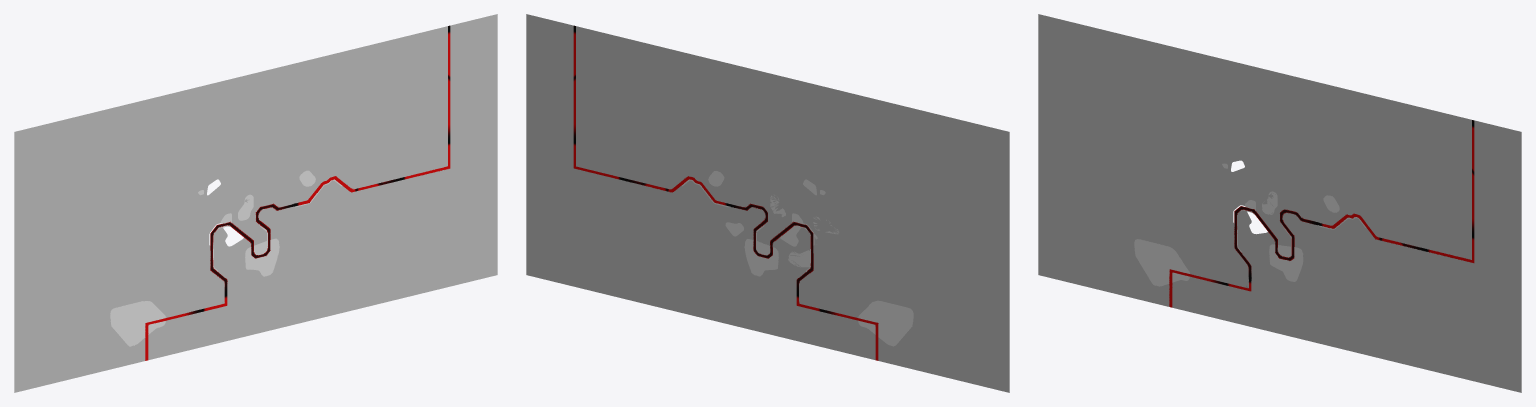
Rendered from Moscow.glb.
3 views of the same model, side by side, from view 1: azimuth 30°, elevation 25°; view 2: azimuth 150°, elevation 25°; view 3: azimuth 330°, elevation 25° (orthographic).
Parts seen in each view (by area): view 1: Moscow_Land, Moscow_Grass, Moscow_Water; view 2: Moscow_Land, Moscow_Grass, Moscow_Water; view 3: Moscow_Land, Moscow_Grass, Moscow_Water.
Boxes of the visible parts, bbox=[...] form: Moscow_Land: bbox=[14, 14, 497, 392]; Moscow_Grass: bbox=[110, 170, 315, 346]; Moscow_Water: bbox=[145, 25, 450, 360]; Moscow_Land: bbox=[526, 14, 1009, 392]; Moscow_Grass: bbox=[708, 171, 913, 346]; Moscow_Water: bbox=[573, 25, 878, 360]; Moscow_Land: bbox=[1038, 14, 1521, 392]; Moscow_Grass: bbox=[1134, 163, 1339, 286]; Moscow_Water: bbox=[1169, 120, 1474, 307].
Bounding box in the file's own units: 403 × 208 × 19.06.
Materials: 4 (1 with a texture image).
